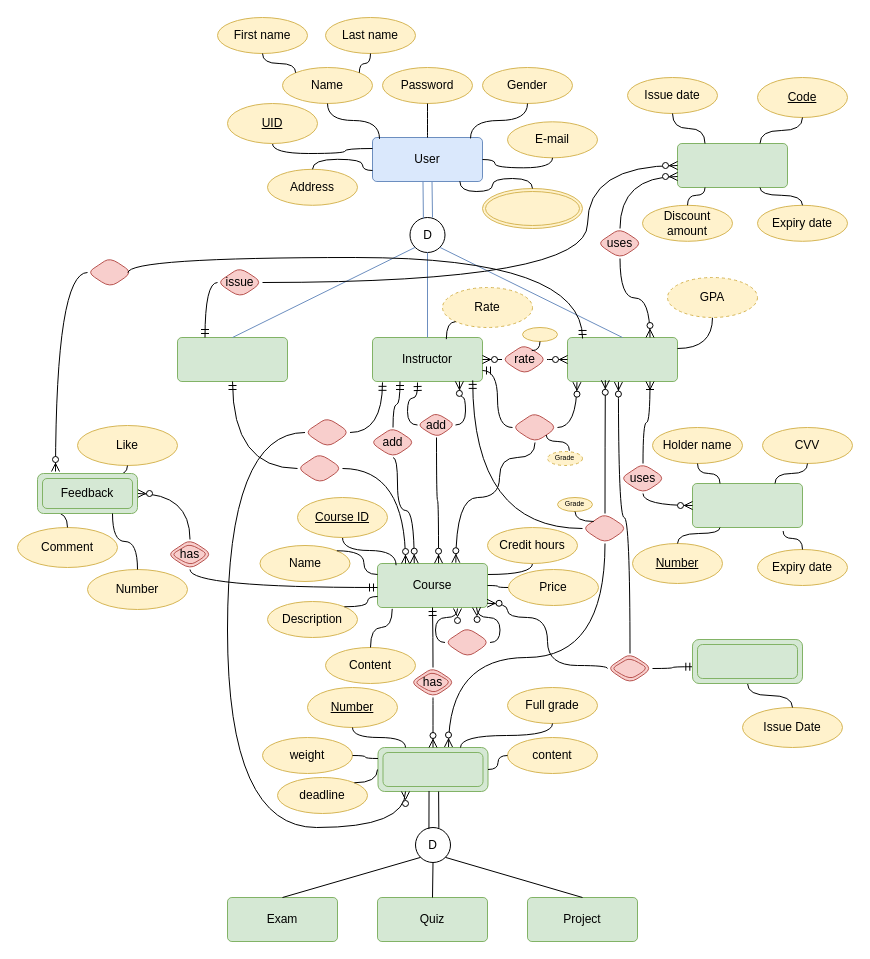
Some shapes in this 870 by 959 pixel diagram are drawn without their labels. The shapes that lost their labels are listed below. From the top down, each one's centre as x and y in pixels, then its label:
At [732,165]: "Promo code".
At [532,208]: "Mobile number".
At [109,272]: "gives".
At [540,334]: "Rating".
At [232,359]: "Admin".
At [622,359]: "Student".
At [327,432]: "define".
At [535,427]: "enroll".
At [319,468]: "accept".
At [747,505]: "Credit card".
At [605,528]: "take".
At [467,642]: "required for".
At [747,661]: "Certificate".
At [629,668]: "takes".
At [432,769]: "Assignment".
